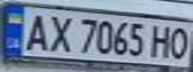0: (93, 18, 115, 55)
5: (127, 20, 151, 57)
6: (112, 19, 133, 56)
7: (72, 16, 96, 54)
A: (21, 10, 51, 53)
H: (148, 22, 175, 58)
O: (166, 25, 193, 60)
X: (45, 11, 75, 53)
